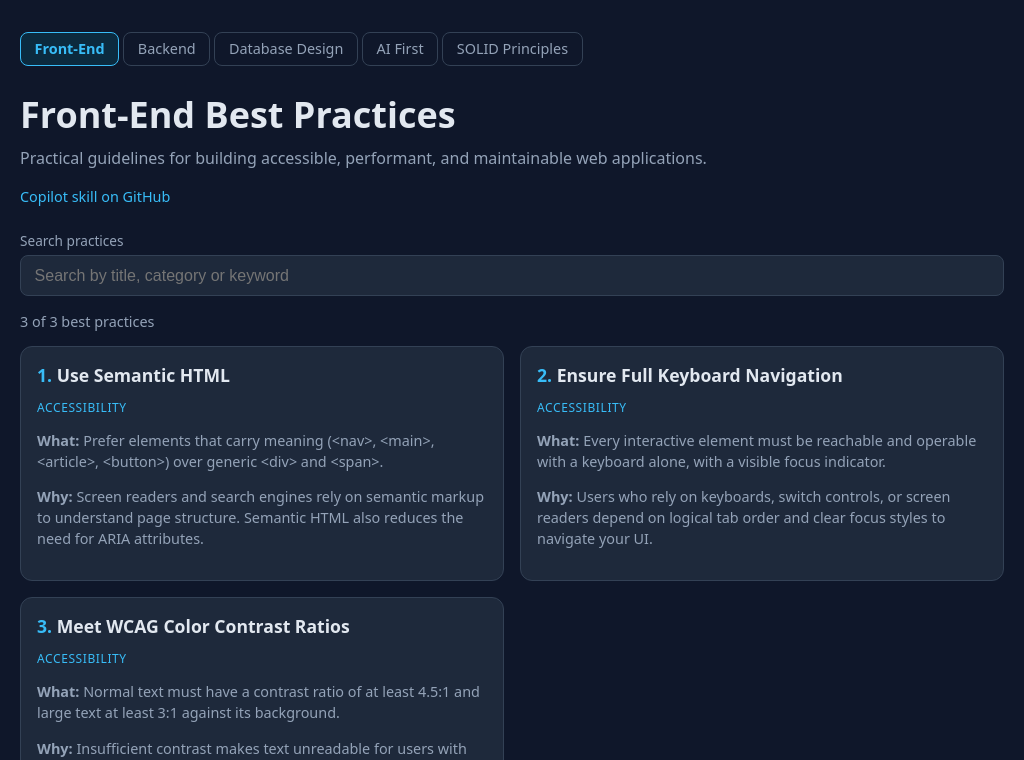
Test: BestPracticesPage › shows the empty state when no practices match the query
Step 1. Type "zzznomatch" into the search field labelled "Search practices" → (512, 276), box top-left (20, 255), bottom-right (1004, 296)
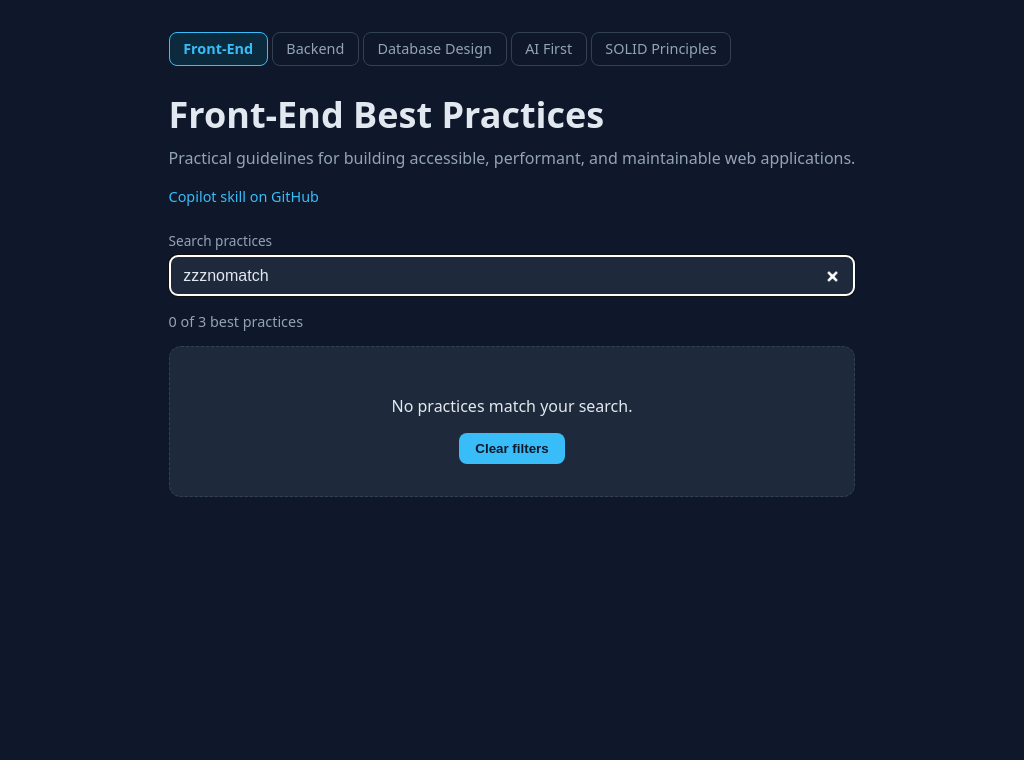
Expected: the text "No practices match your search." is shown, top-left (392, 394), bottom-right (632, 416)
